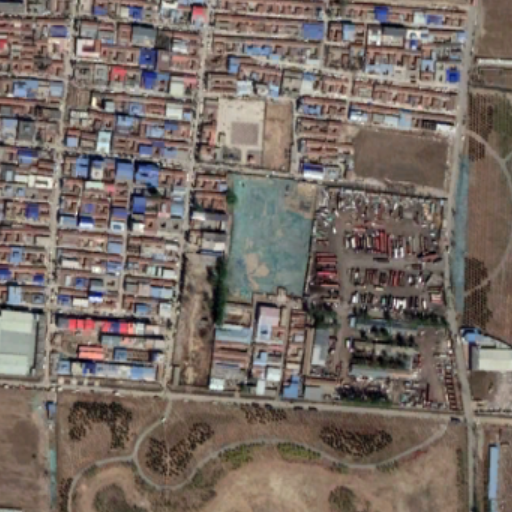cw: (221, 171, 314, 311)
